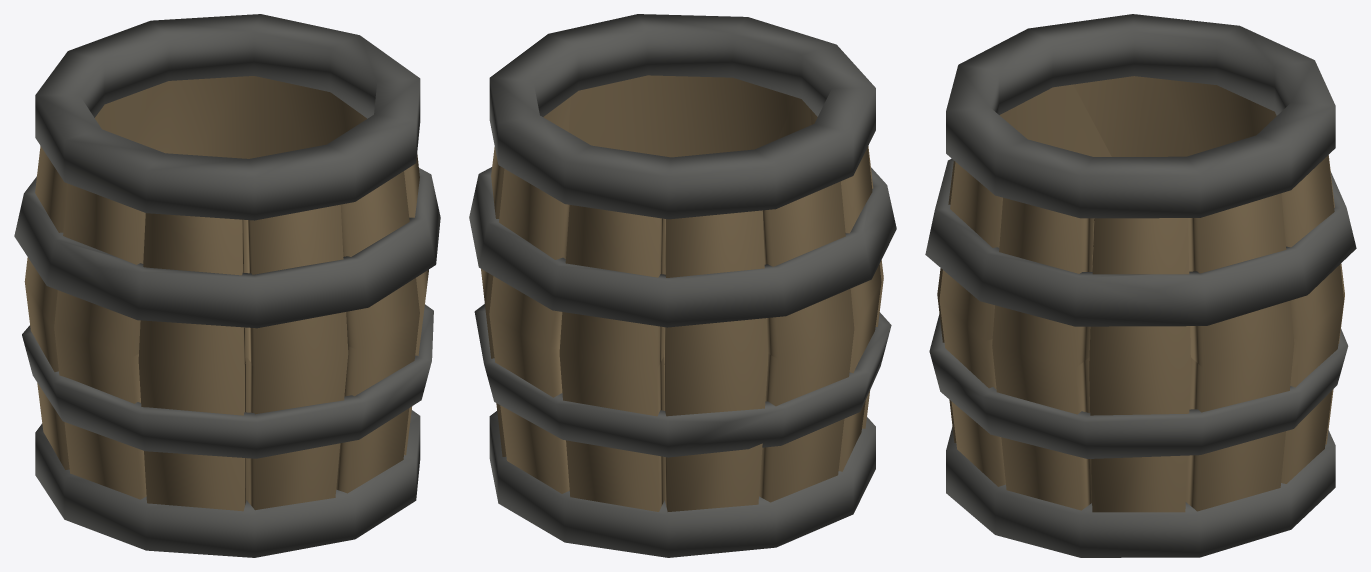
The model's file is rpgpp_ag_barrel_02b.fbx.
3 renders of one model, left to right at view 1: azimuth 30°, elevation 25°; view 2: azimuth 150°, elevation 25°; view 3: azimuth 270°, elevation 25°, orthographic.
Visible parts, largest first — view 1: rpgpp_ag_barrel_02b; view 2: rpgpp_ag_barrel_02b; view 3: rpgpp_ag_barrel_02b.
Part boxes in pixels (x1,y1,x2,y2): rpgpp_ag_barrel_02b: [14, 14, 440, 557]; rpgpp_ag_barrel_02b: [469, 14, 896, 557]; rpgpp_ag_barrel_02b: [925, 14, 1356, 557].
Bounding box in the file's own units: 0.9454 × 0.9454 × 0.9603.
